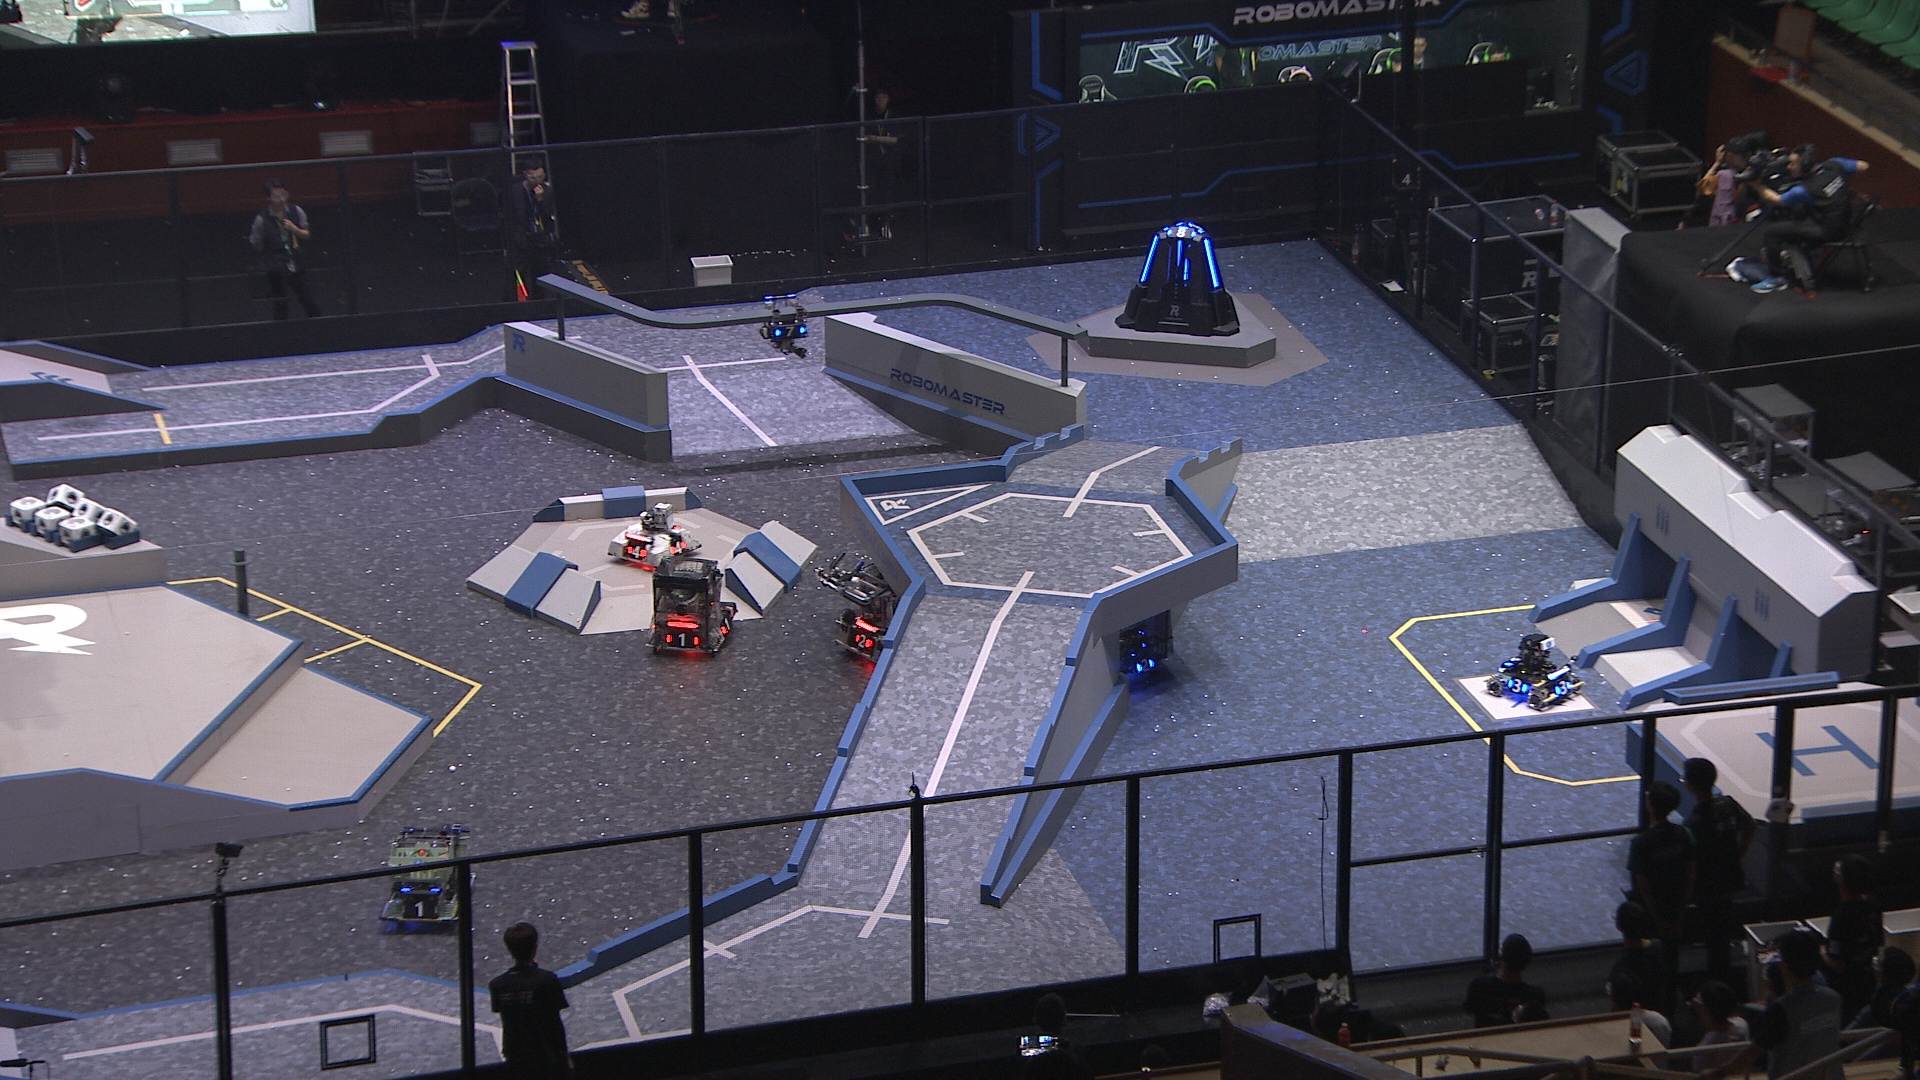armor: (1135, 233, 1162, 284), (1201, 237, 1222, 290), (404, 898, 439, 920), (662, 632, 698, 650), (771, 324, 808, 339), (1166, 225, 1199, 240), (1133, 657, 1156, 676), (1505, 675, 1528, 694), (855, 632, 876, 651), (669, 537, 688, 556), (624, 543, 647, 559), (717, 613, 733, 637), (1174, 237, 1185, 268), (1555, 680, 1572, 698), (1501, 654, 1523, 666), (1182, 257, 1191, 278)
base: (1114, 222, 1240, 338)
car: (832, 562, 932, 669), (380, 823, 479, 927), (1065, 588, 1162, 690), (644, 556, 736, 657), (1485, 636, 1586, 712), (607, 500, 702, 567)
watcher: (757, 291, 812, 360)
